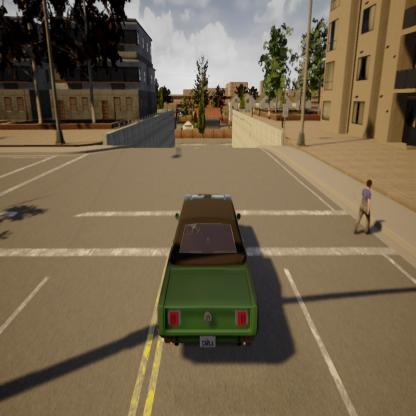Cars: (143, 186, 270, 370)
Pedestrian: (350, 168, 377, 242)
